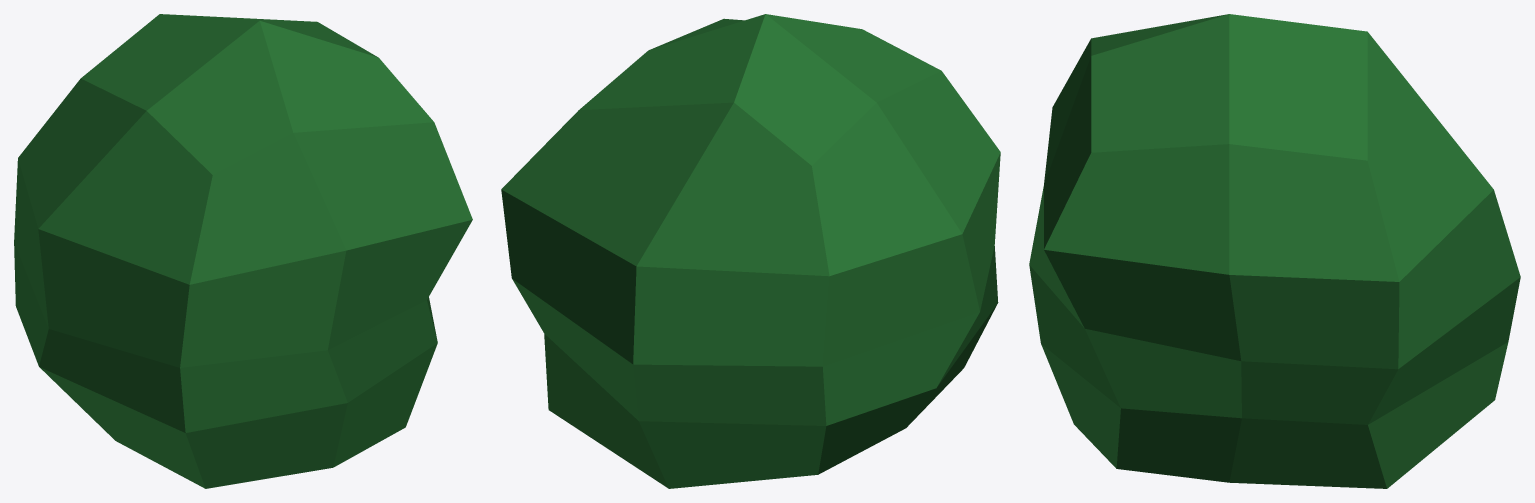
The model's file is Bush.fbx.
3 renders of one model, left to right at view 1: azimuth 30°, elevation 25°; view 2: azimuth 150°, elevation 25°; view 3: azimuth 270°, elevation 25°, orthographic. The views are drawn at different scales.
Parts seen in each view (by area): view 1: Bush; view 2: Bush; view 3: Bush.
Part boxes in pixels (box(x1,y1,x2,y2)): Bush: box(14, 14, 472, 488); Bush: box(501, 14, 1000, 488); Bush: box(1029, 14, 1520, 488).
Size of the model in its own units: 159 by 160 by 161.
